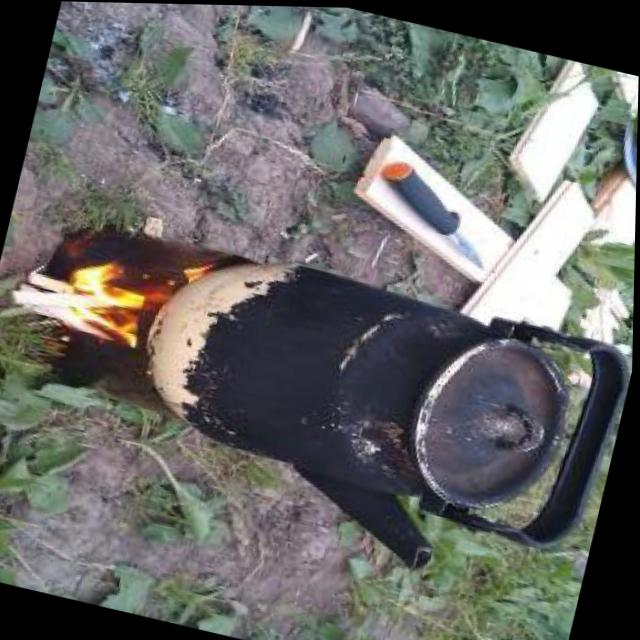Fire: (20, 238, 206, 369)
